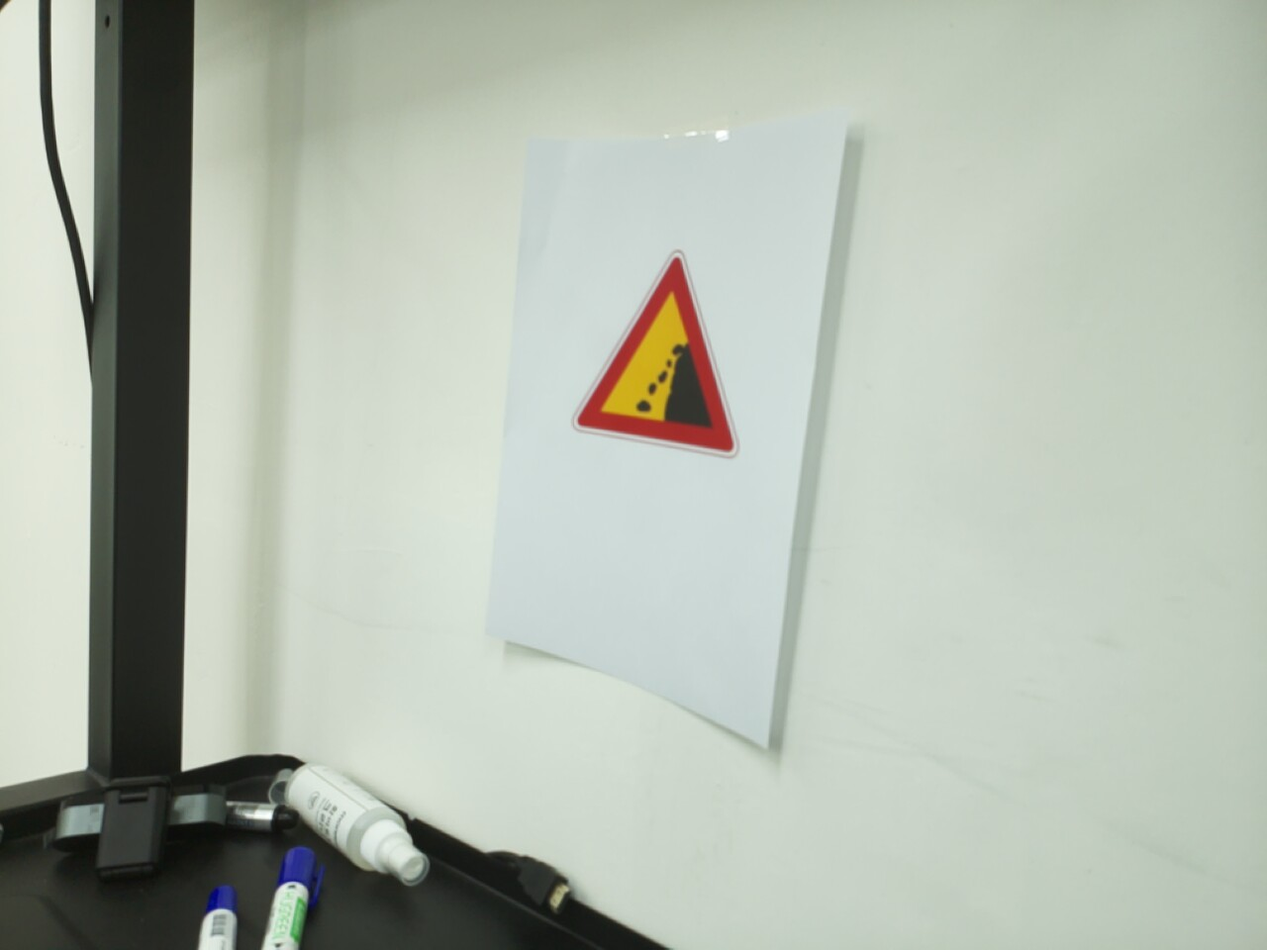falling_rocks: (570, 249, 740, 460)
